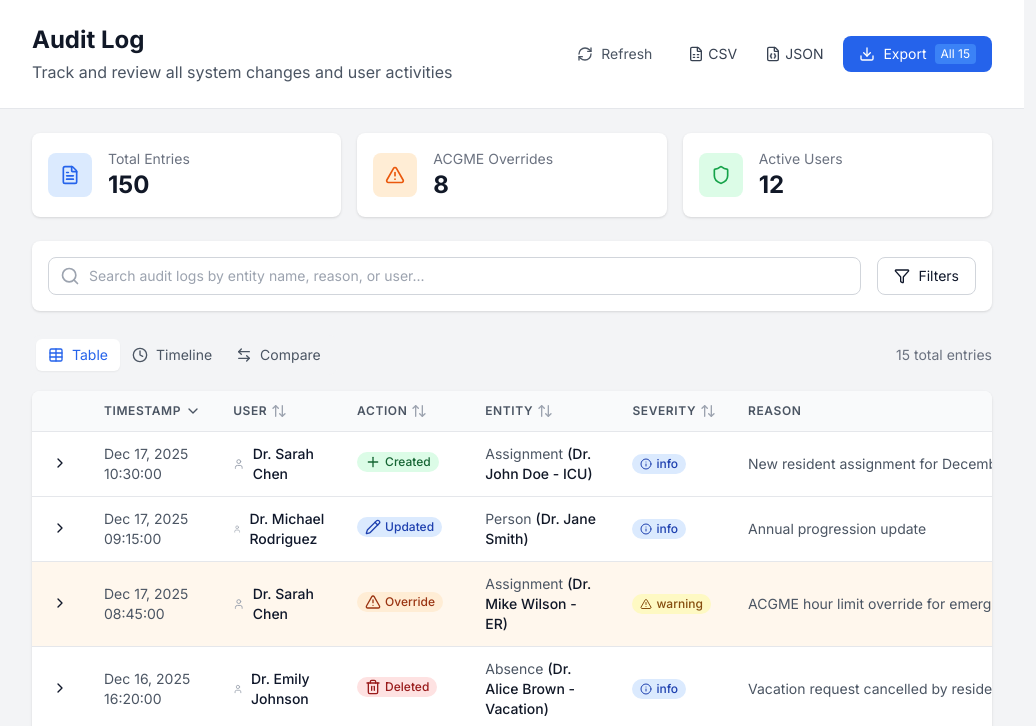
AuditLogPage › View Mode › should render timeline in timeline view
Click the tab "Timeline".
click(172, 355)  # box x1=120 y1=339 x2=224 y2=371
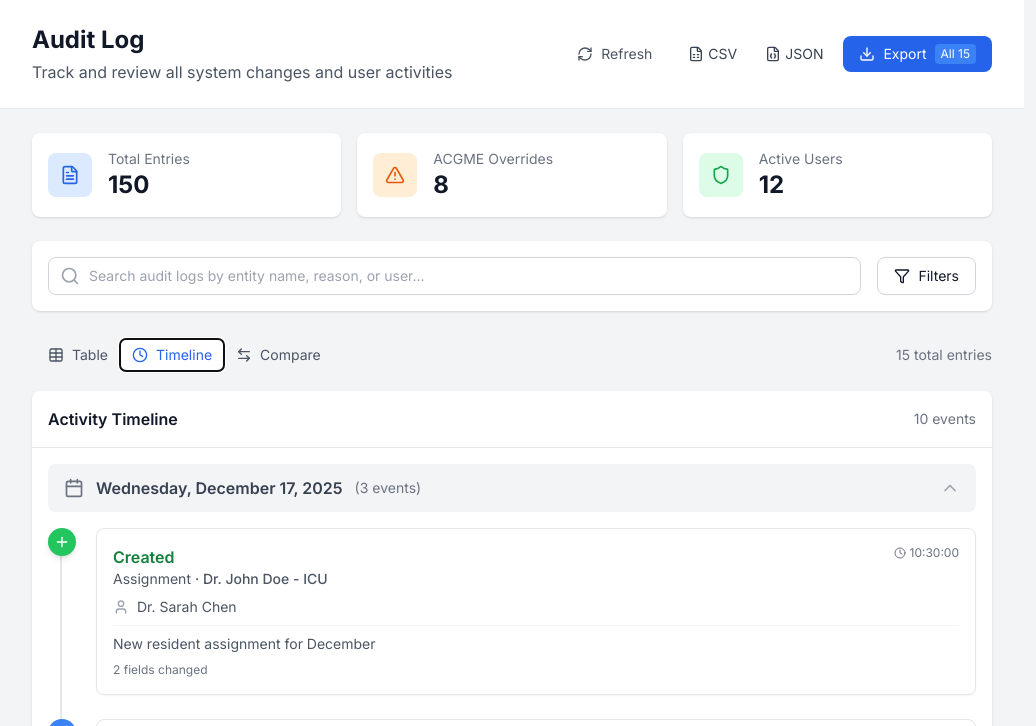
Expected: the heading "Activity Timeline" is shown, x1=48 y1=407 x2=178 y2=431
